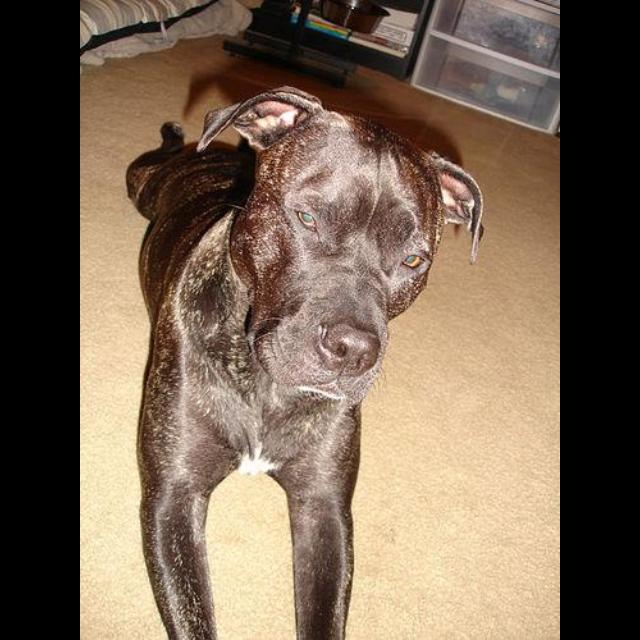amstaff: (125, 85, 485, 640)
